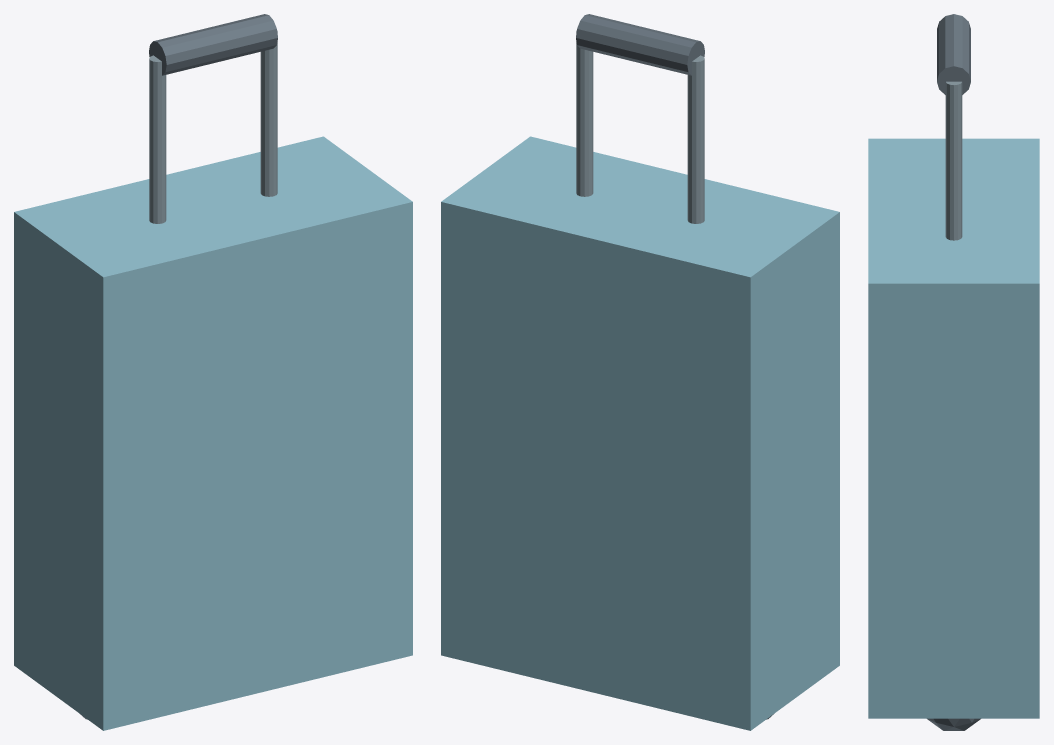
The model's file is suitcase.glb.
3 views of the same model, side by side, from view 1: azimuth 30°, elevation 25°; view 2: azimuth 150°, elevation 25°; view 3: azimuth 270°, elevation 25° (orthographic). The views are drawn at different scales.
Visible parts, largest first — view 1: suitcase_000, suitcase_005, suitcase_002, suitcase_004; view 2: suitcase_000, suitcase_005, suitcase_002, suitcase_004; view 3: suitcase_000, suitcase_004, suitcase_005, suitcase_003.
Boxes of the visible parts, x1=… form: suitcase_000: x1=14, y1=136, x2=412, y2=730; suitcase_005: x1=149, y1=14, x2=277, y2=75; suitcase_002: x1=149, y1=55, x2=166, y2=223; suitcase_004: x1=260, y1=31, x2=277, y2=196; suitcase_000: x1=441, y1=136, x2=839, y2=730; suitcase_005: x1=576, y1=14, x2=704, y2=75; suitcase_002: x1=687, y1=55, x2=704, y2=223; suitcase_004: x1=576, y1=31, x2=593, y2=196; suitcase_000: x1=868, y1=138, x2=1039, y2=718; suitcase_004: x1=945, y1=81, x2=962, y2=240; suitcase_005: x1=937, y1=14, x2=970, y2=94; suitcase_003: x1=927, y1=718, x2=980, y2=730.
Size of the model in its own units: 0.5 by 1.03 by 0.25.
